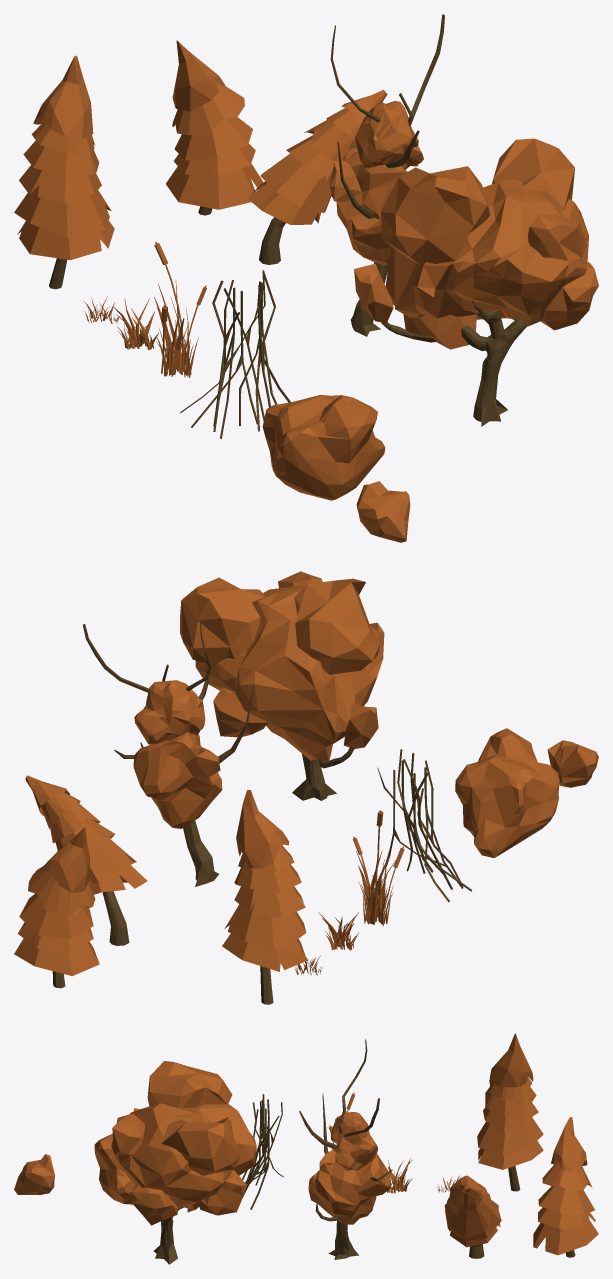
The model's file is forest_low_poly_pack.glb.
3 views of the same model, one above another, from view 1: azimuth 30°, elevation 25°; view 2: azimuth 150°, elevation 25°; view 3: azimuth 270°, elevation 25° (orthographic). The views are drawn at different scales.
Visible parts, largest first — view 1: Tree1, Tree4, Tree3, Tree2, Leaves2, Tree5, Sticks, Leaves1, Grass3, Grass1; view 2: Tree1, Tree2, Tree4, Leaves2, Tree3, Tree5, Sticks, Grass3, Leaves1, Grass1; view 3: Tree1, Tree2, Tree4, Tree3, Tree5, Leaves2, Sticks, Leaves1, Grass1.
Boxes of the visible parts, x1,y1,x2,y2 form: Tree1: [354, 138, 598, 426]; Tree4: [14, 55, 114, 289]; Tree3: [166, 40, 263, 215]; Tree2: [329, 14, 444, 336]; Leaves2: [262, 395, 385, 500]; Tree5: [247, 90, 387, 264]; Sticks: [180, 270, 290, 438]; Leaves1: [356, 481, 410, 542]; Grass3: [154, 241, 206, 377]; Grass1: [113, 298, 158, 349]; Tree1: [180, 571, 384, 800]; Tree2: [83, 621, 253, 886]; Tree4: [222, 790, 306, 1004]; Leaves2: [455, 728, 559, 857]; Tree3: [14, 827, 99, 988]; Tree5: [25, 775, 147, 945]; Sticks: [377, 749, 472, 902]; Grass3: [353, 810, 404, 926]; Leaves1: [547, 740, 598, 787]; Grass1: [318, 912, 359, 950]; Tree1: [111, 1061, 256, 1264]; Tree2: [299, 1039, 392, 1259]; Tree4: [477, 1033, 543, 1191]; Tree3: [533, 1117, 598, 1257]; Tree5: [444, 1175, 501, 1258]; Leaves2: [94, 1134, 135, 1204]; Sticks: [242, 1094, 283, 1209]; Leaves1: [14, 1154, 54, 1194]; Grass1: [387, 1158, 412, 1193].
Bounding box in the file's own units: 8.72 × 7.24 × 17.36.
